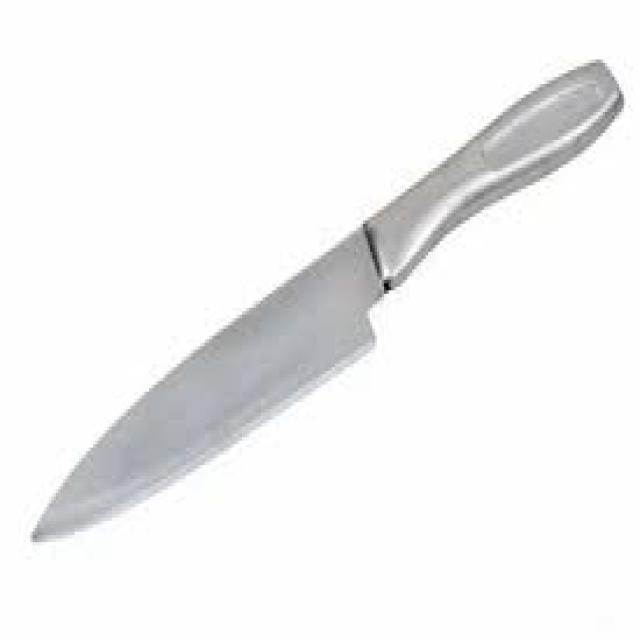Knife: (28, 53, 624, 542)
